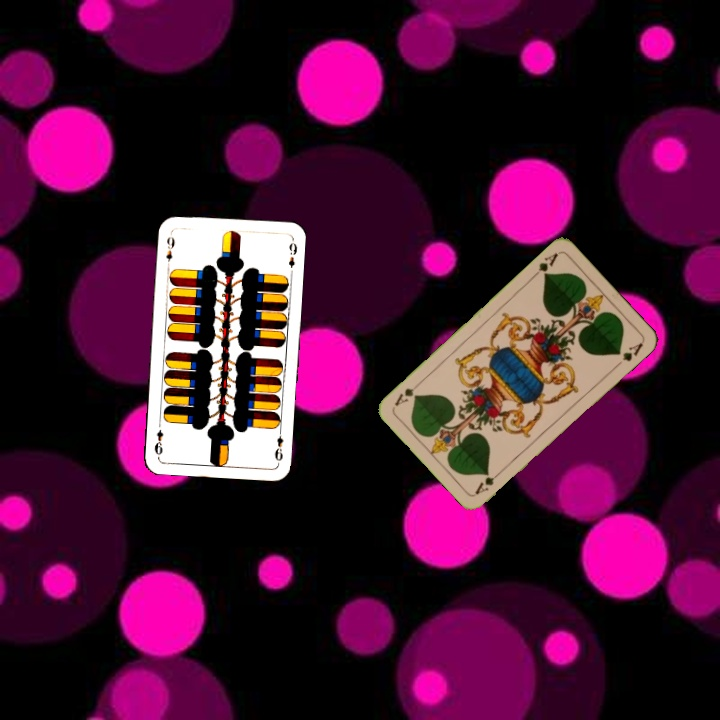E9: (271, 424, 286, 465), (162, 229, 177, 264)
GA: (528, 248, 561, 281), (471, 466, 505, 497)
